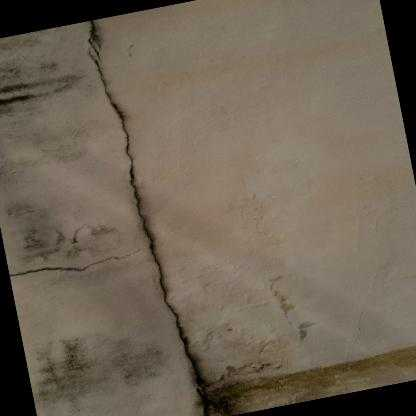crack: (87, 49, 210, 416), (9, 247, 139, 276), (87, 18, 100, 48)
